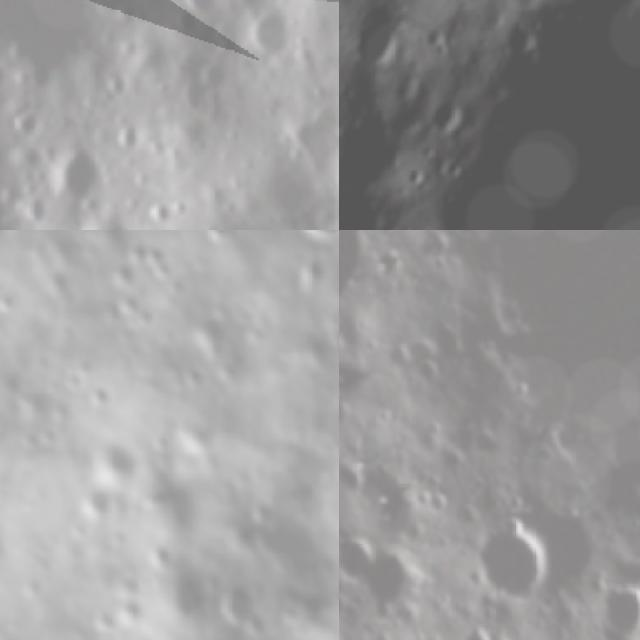crater: (416, 230, 640, 519), (462, 0, 640, 230), (463, 513, 552, 609), (35, 133, 123, 220), (232, 1, 303, 73), (366, 548, 430, 617), (80, 434, 144, 502), (348, 10, 408, 77), (202, 576, 266, 637), (585, 571, 640, 640), (68, 479, 119, 534), (339, 197, 416, 230), (339, 527, 376, 590), (382, 62, 428, 110), (431, 90, 471, 137), (99, 254, 143, 296), (168, 0, 232, 27), (339, 453, 371, 507), (502, 20, 538, 61), (107, 289, 147, 324), (53, 364, 89, 400), (413, 486, 448, 520), (85, 379, 117, 414), (280, 230, 332, 251), (421, 22, 455, 54), (411, 362, 445, 393), (441, 153, 472, 185), (398, 164, 424, 192), (240, 628, 292, 640), (450, 629, 493, 640)
